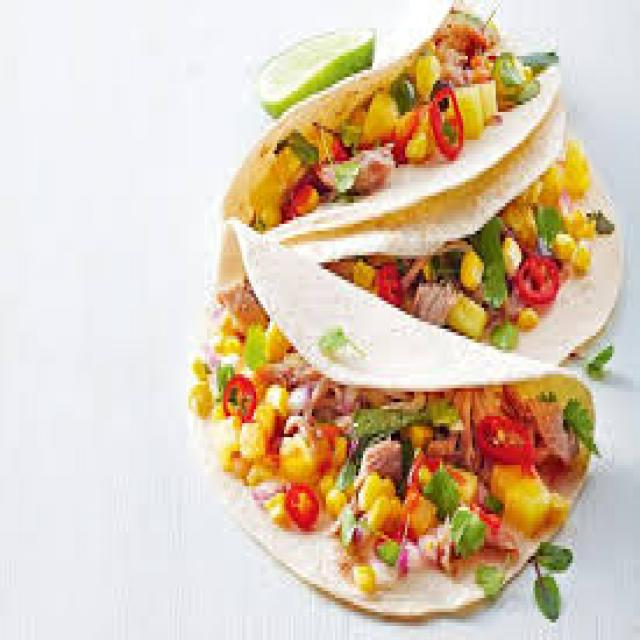organic waste: (209, 213, 596, 619), (277, 91, 621, 364), (218, 0, 558, 238), (256, 21, 375, 112), (244, 122, 342, 224), (347, 395, 458, 444), (512, 384, 579, 462), (284, 357, 368, 416), (486, 458, 554, 521), (319, 140, 398, 189), (486, 45, 556, 98), (354, 469, 407, 535), (426, 80, 463, 168), (224, 437, 282, 493), (405, 420, 468, 465), (272, 423, 324, 476), (412, 273, 461, 329), (475, 409, 533, 455), (563, 392, 603, 458), (442, 504, 487, 560), (218, 374, 260, 434), (514, 245, 558, 301), (477, 220, 505, 308), (244, 315, 291, 367), (217, 284, 266, 332), (459, 80, 498, 140), (356, 91, 400, 143), (370, 259, 410, 308), (426, 462, 458, 518), (363, 426, 398, 476), (500, 199, 538, 245), (530, 560, 561, 616), (442, 294, 487, 332), (561, 136, 589, 192), (258, 479, 289, 528), (260, 381, 296, 423), (284, 479, 316, 525), (533, 535, 575, 570), (456, 241, 482, 294), (344, 252, 380, 290), (186, 357, 210, 412), (535, 158, 561, 206), (410, 46, 435, 94), (389, 66, 412, 116), (389, 101, 412, 150), (219, 318, 244, 360), (237, 416, 263, 455), (586, 339, 610, 381), (474, 560, 502, 594), (251, 392, 268, 444), (489, 311, 514, 343), (563, 210, 594, 234), (402, 133, 433, 157), (393, 535, 419, 563), (349, 556, 375, 584), (324, 479, 344, 514), (584, 206, 612, 231), (503, 238, 521, 276), (570, 238, 589, 273), (547, 228, 570, 255), (517, 186, 540, 207), (514, 298, 536, 318)
